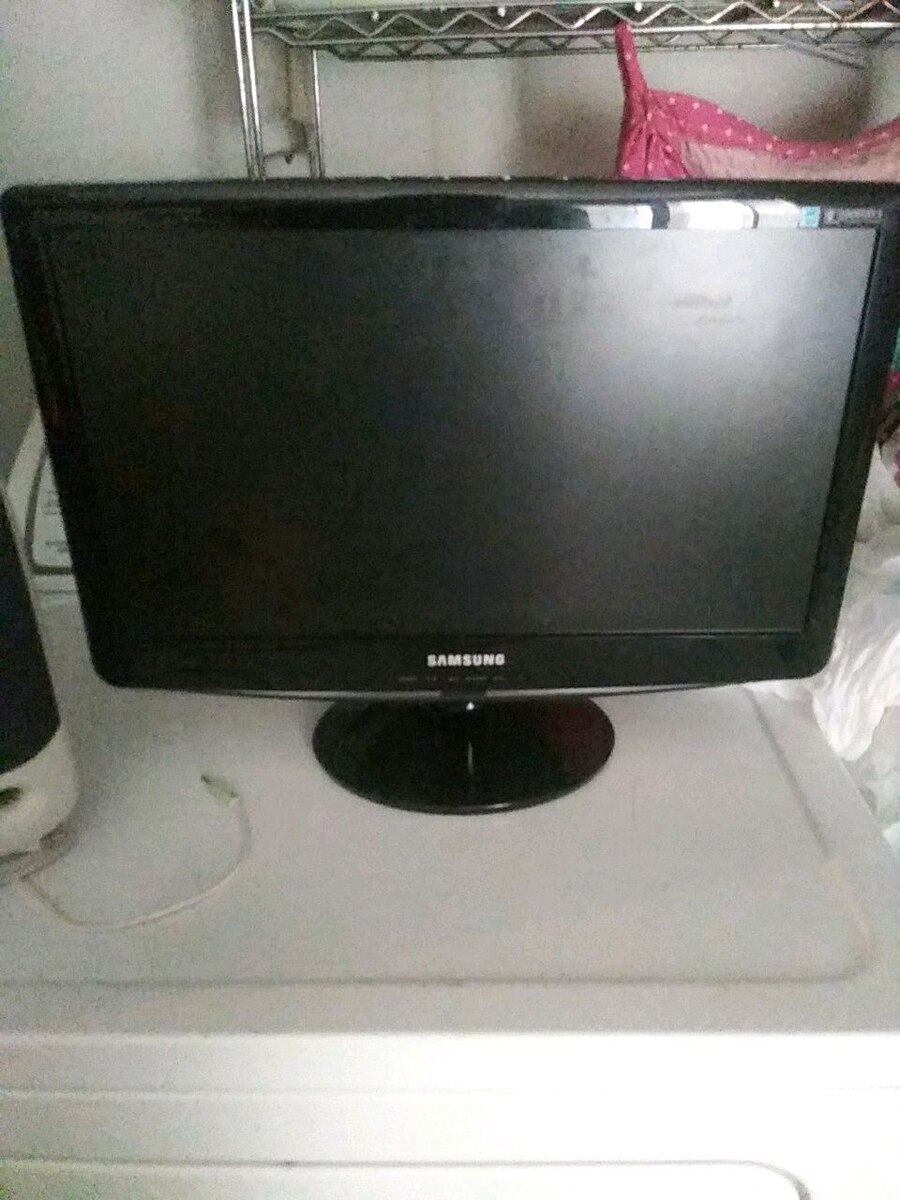samsung-monitor-b2030: (2, 178, 895, 818)
